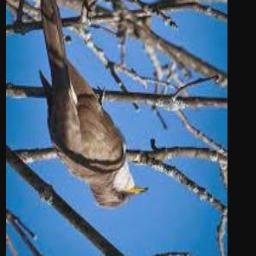Cuckoo: (37, 0, 146, 208)
